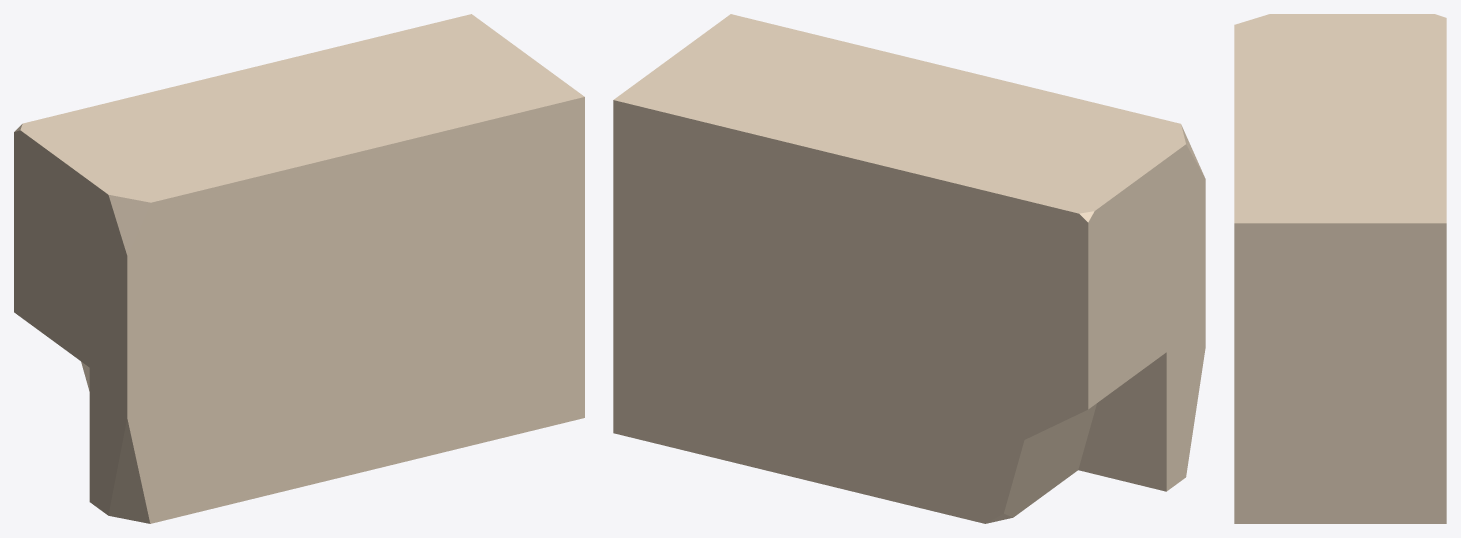
The picture shows the model from 3 angles, left to right: view 1: azimuth 30°, elevation 25°; view 2: azimuth 150°, elevation 25°; view 3: azimuth 270°, elevation 25°; orthographic projection. The views are drawn at different scales.
Parts seen in each view (by area): view 1: object11; view 2: object11; view 3: object11.
Boxes of the visible parts, x1,y1,x2,y2 form: object11: [14, 14, 584, 523]; object11: [613, 14, 1205, 523]; object11: [1234, 14, 1446, 523].
Bounding box in the file's own units: 0.35 × 0.2347 × 0.15.
